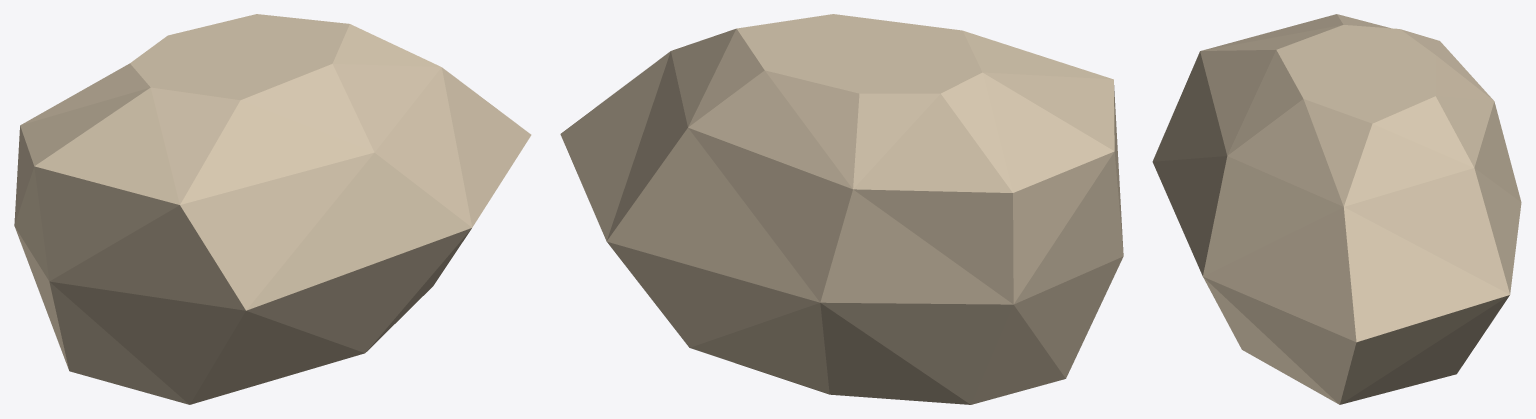
Rendered from rock_S_b.fbx.
The picture shows the model from 3 angles, left to right: view 1: azimuth 30°, elevation 25°; view 2: azimuth 150°, elevation 25°; view 3: azimuth 270°, elevation 25°; orthographic projection. The views are drawn at different scales.
Visible parts, largest first — view 1: rock_S_b; view 2: rock_S_b; view 3: rock_S_b.
Part boxes in pixels (bbox=[...]): rock_S_b: bbox=[14, 14, 531, 404]; rock_S_b: bbox=[560, 14, 1123, 404]; rock_S_b: bbox=[1152, 14, 1521, 404].
Bounding box in the file's own units: 1.2 × 0.6 × 0.8.
